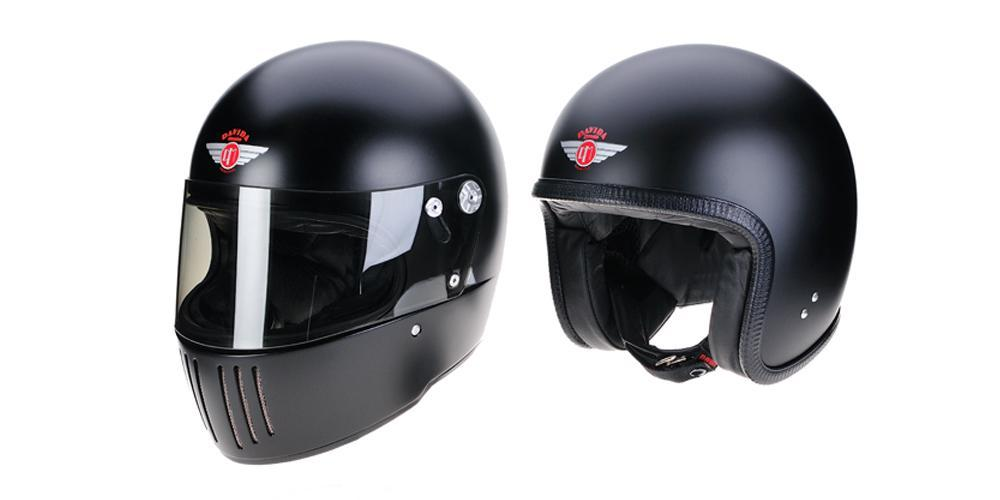with_helmet: (180, 31, 510, 461), (537, 42, 858, 385)
